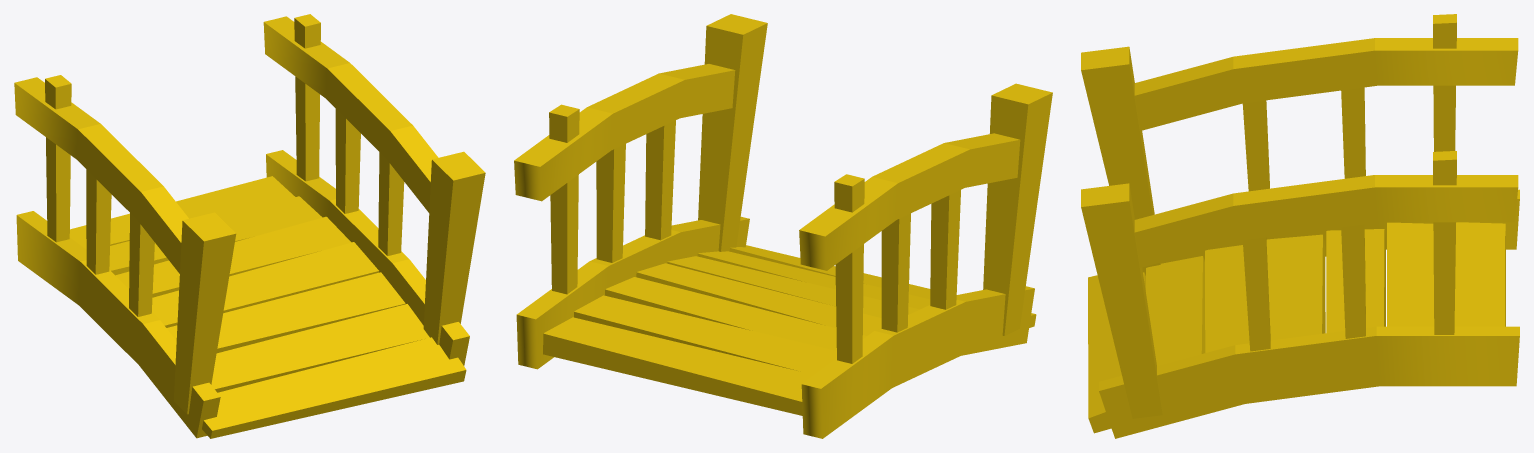
File: HalfBridge.fbx
3 views of the same model, side by side, from view 1: azimuth 30°, elevation 25°; view 2: azimuth 150°, elevation 25°; view 3: azimuth 270°, elevation 25° (orthographic). The views are drawn at different scales.
Parts seen in each view (by area): view 1: Bridge_02; view 2: Bridge_02; view 3: Bridge_02.
Part boxes in pixels (x1,y1,x2,y2): Bridge_02: (14,14,485,438); Bridge_02: (514,14,1052,438); Bridge_02: (1081,14,1519,438).
Size of the model in its own units: 202 by 170 by 243.
